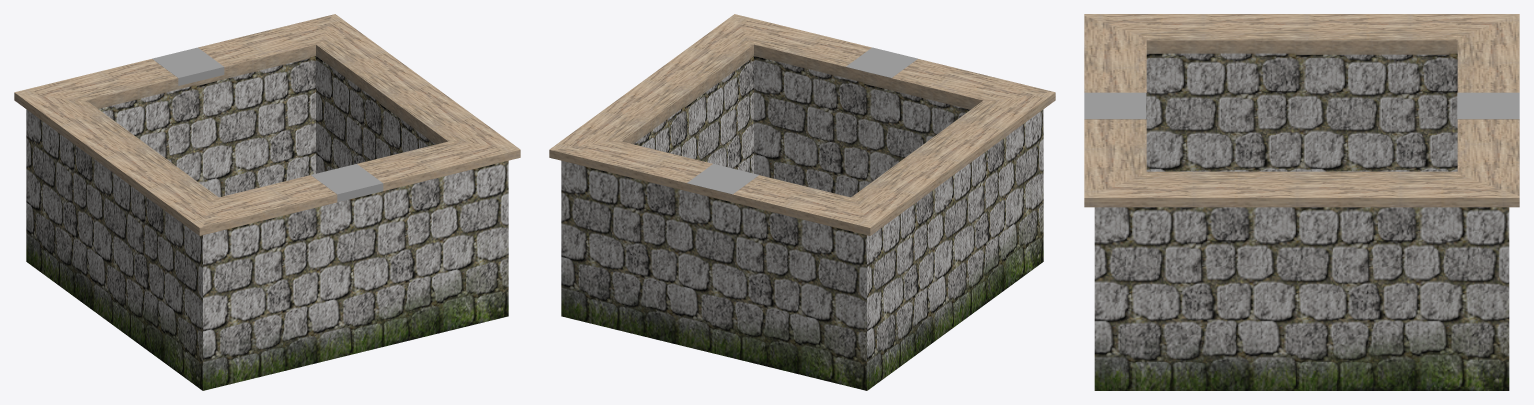
File: well 1.fbx
3 renders of one model, left to right at view 1: azimuth 30°, elevation 25°; view 2: azimuth 150°, elevation 25°; view 3: azimuth 270°, elevation 25°, orthographic. The views are drawn at different scales.
Visible parts, largest first — view 1: Well, pCube2, pCube1; view 2: Well, pCube1, pCube2; view 3: Well, pCube2, pCube1.
Part boxes in pixels (bbox=[...]): Well: bbox=[14, 14, 520, 390]; pCube2: bbox=[152, 47, 224, 85]; pCube1: bbox=[311, 164, 383, 202]; Well: bbox=[549, 14, 1055, 390]; pCube1: bbox=[846, 47, 917, 77]; pCube2: bbox=[687, 164, 758, 194]; Well: bbox=[1084, 14, 1519, 390]; pCube2: bbox=[1457, 92, 1519, 127]; pCube1: bbox=[1084, 92, 1146, 119].
Bounding box in the file's own units: 420 × 210 × 420.
